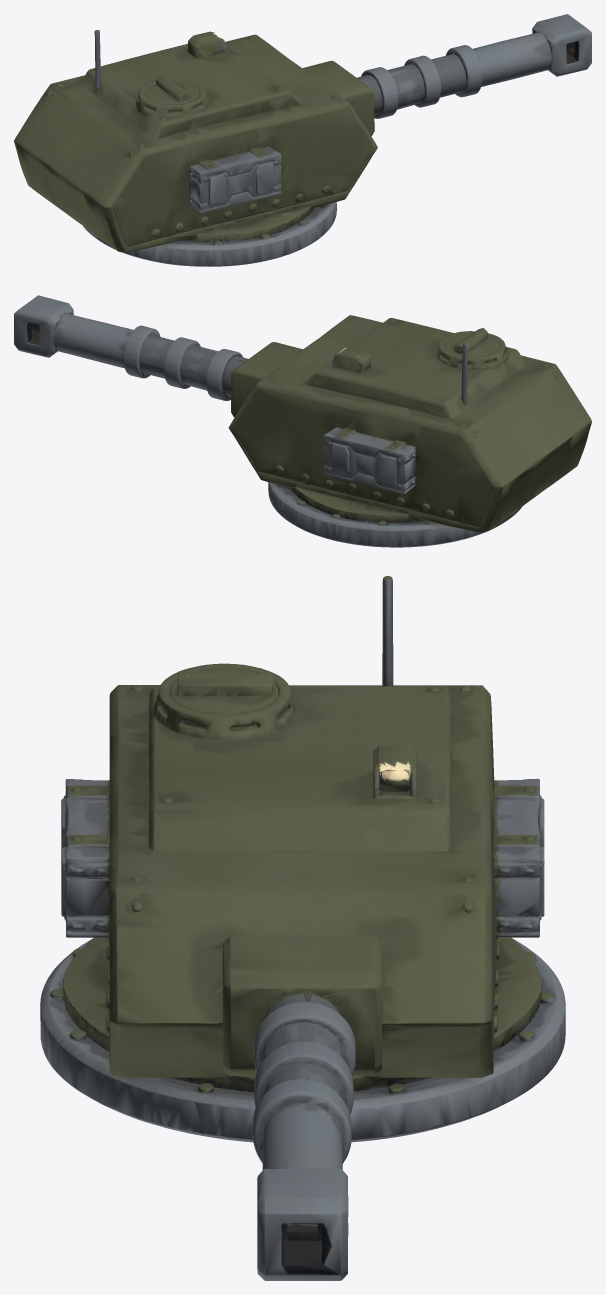
File: weapon-pulse-0-full.glb
3 views of the same model, one above another, from view 1: azimuth 30°, elevation 25°; view 2: azimuth 150°, elevation 25°; view 3: azimuth 270°, elevation 25° (orthographic). The views are drawn at different scales.
Parts seen in each view (by area): view 1: weapon-pulse-0-full; view 2: weapon-pulse-0-full; view 3: weapon-pulse-0-full.
Part boxes in pixels (left/top/right/bottom): weapon-pulse-0-full: left=14, top=14, right=591, bottom=266; weapon-pulse-0-full: left=14, top=295, right=591, bottom=547; weapon-pulse-0-full: left=40, top=576, right=565, bottom=1280.
Size of the model in its own units: 2.63 by 0.9028 by 1.14.
1 material, 1 textured.
